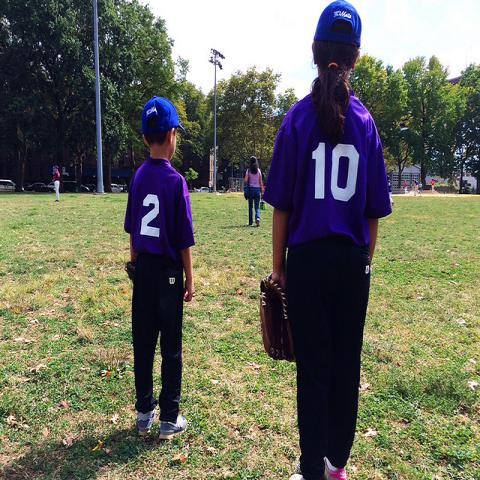car: (26, 182, 49, 193), (46, 182, 56, 193), (111, 184, 123, 192)
